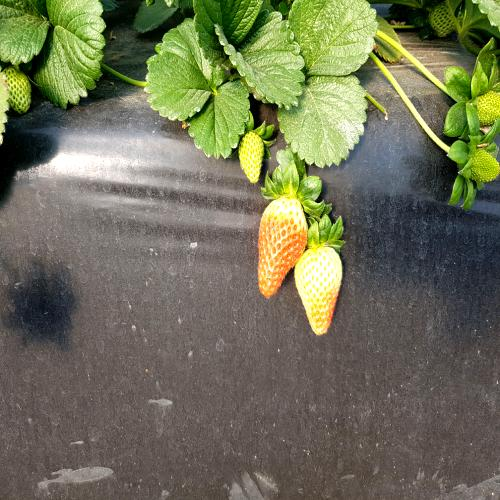partially-ripe: (292, 239, 350, 345), (253, 185, 306, 298)
